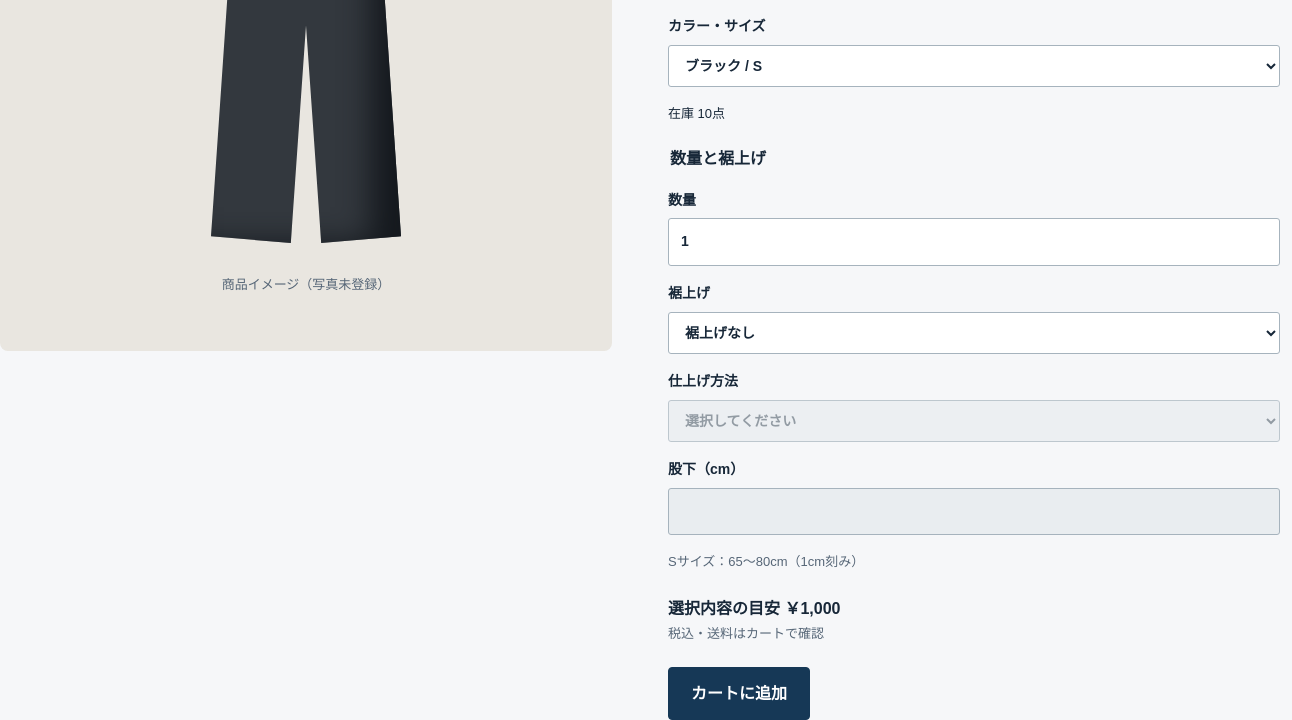
Test: UT-WEB-004 NONE 選択と整合するJSONをカートAPIへ送る
(page scrolled)
Click the button "カートに追加" at (739, 693), box [668, 667, 810, 719]
(page scrolled)
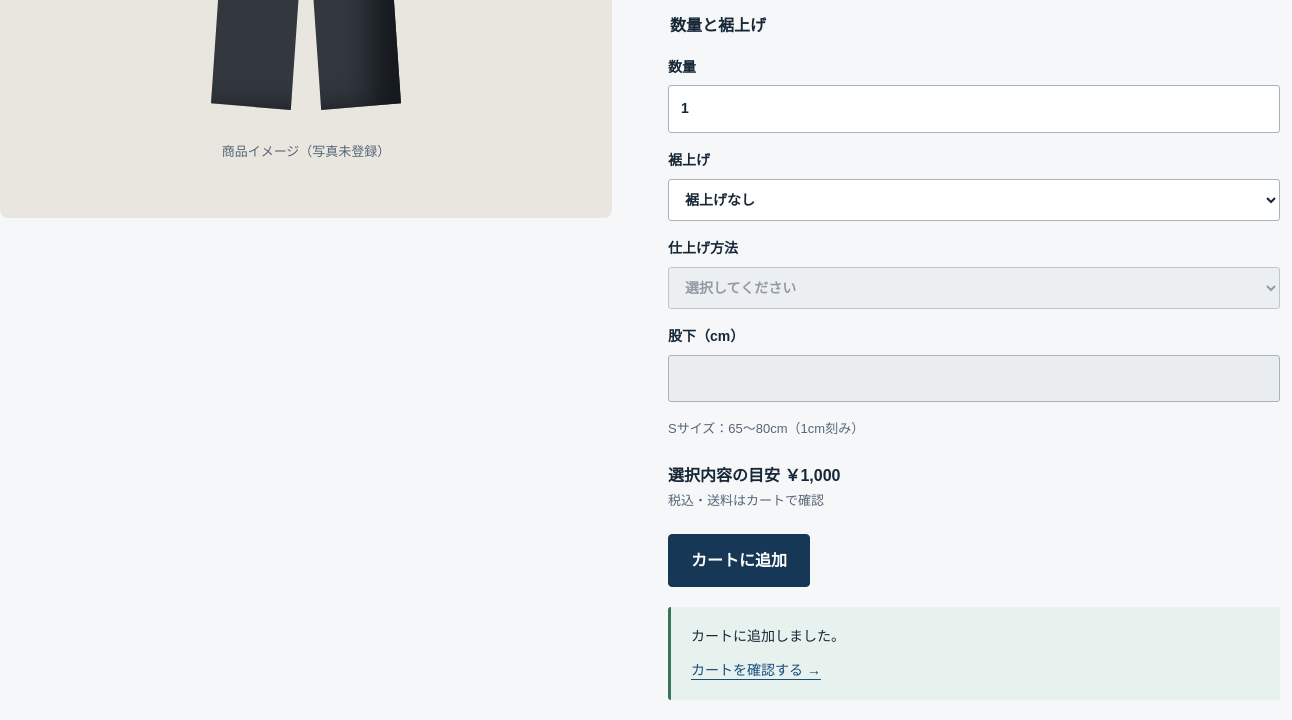
Expected: the text "カートに追加しました。" is shown, [691, 628, 845, 644]
